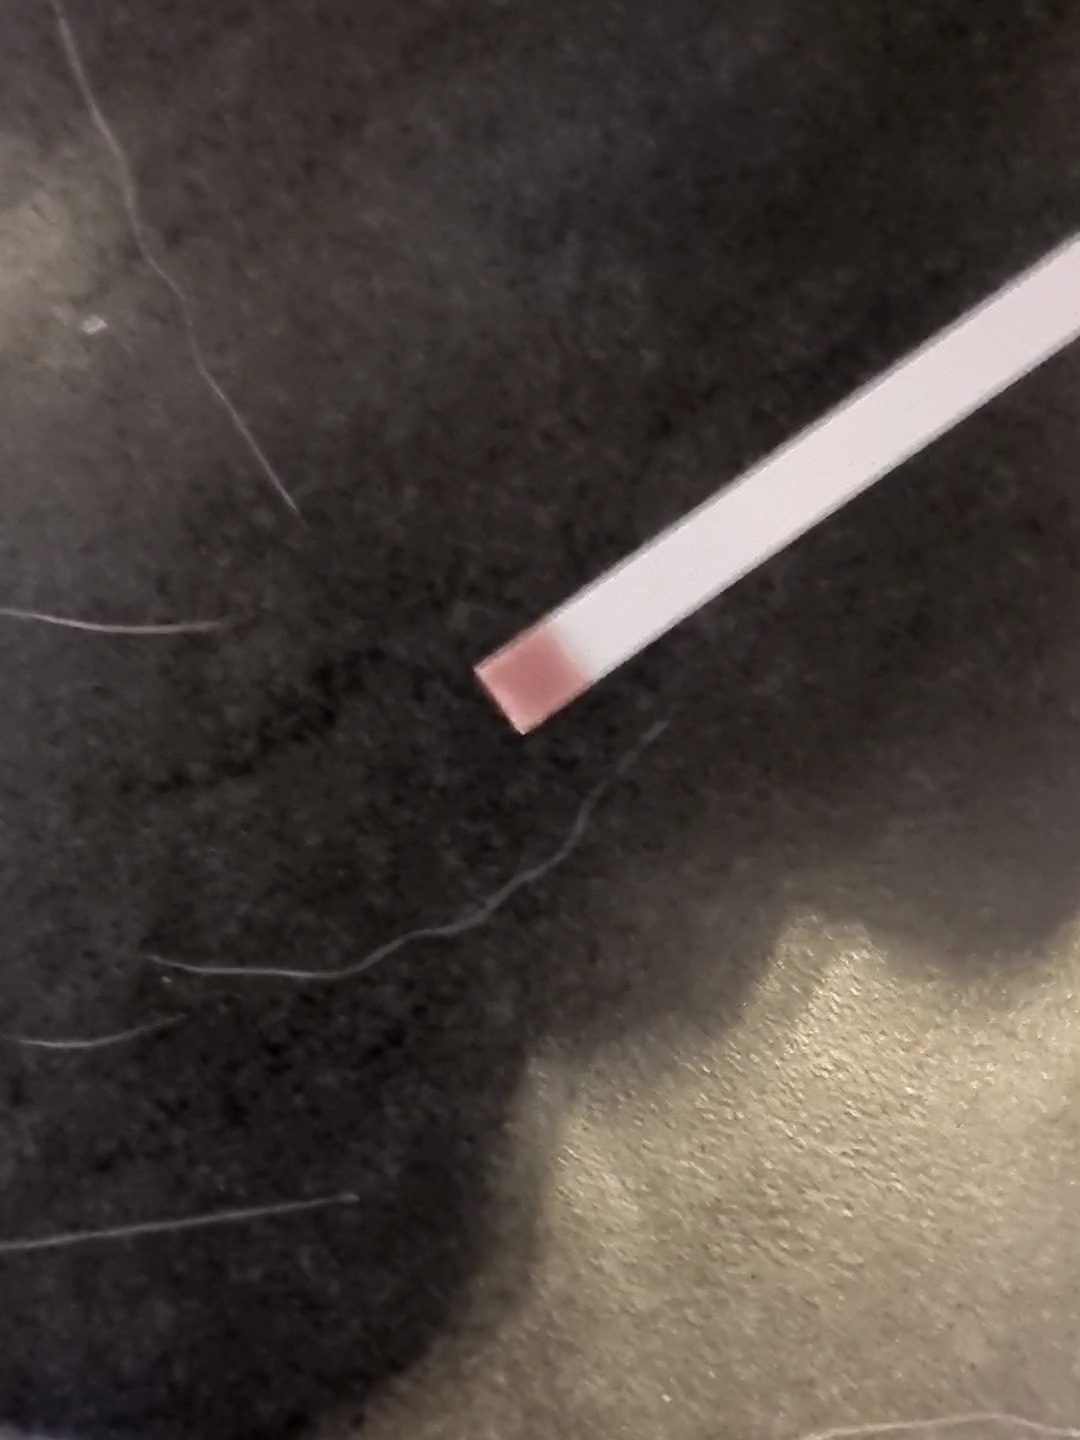keto-tip: (467, 619, 600, 737)
